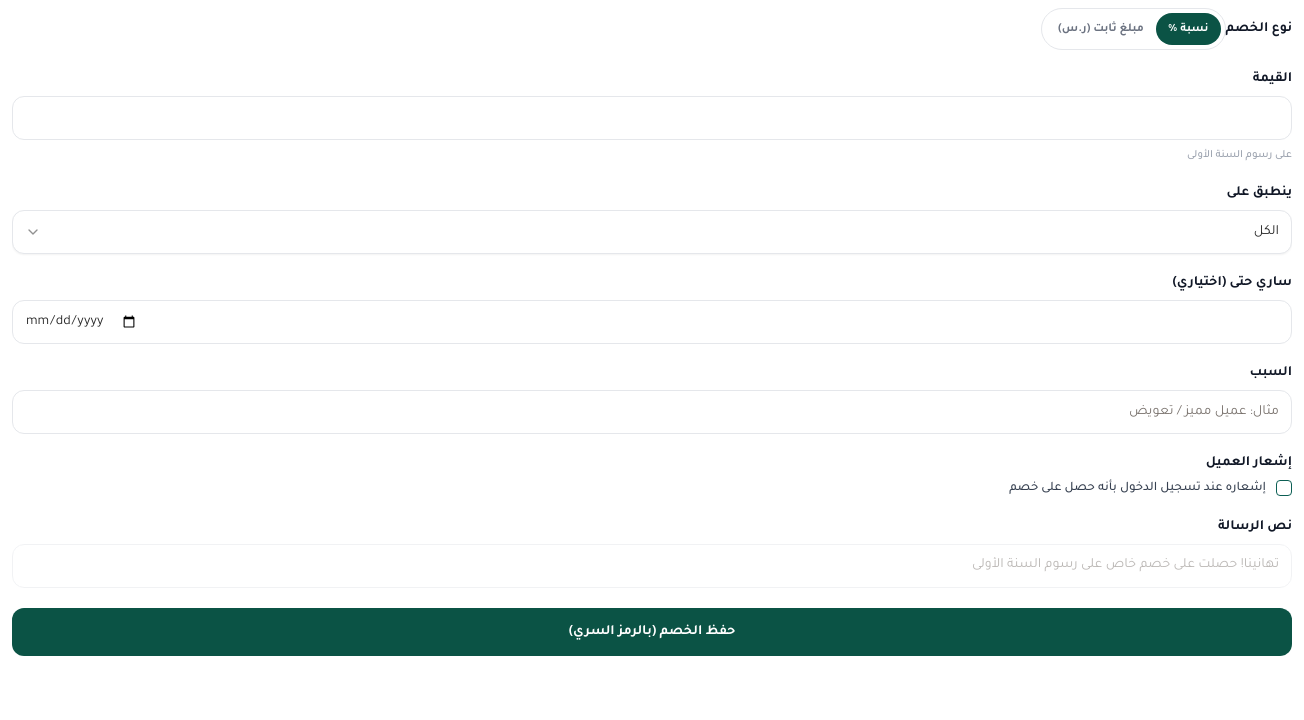
Scenario: ClientDiscountForm — notify-on-login checkbox › enables the message field once the checkbox is checked
This screenshot has width=1304, height=720.
Click the checkbox named "إشعار العميل". click: point(1284, 488)
box: [1276,480,1292,496]
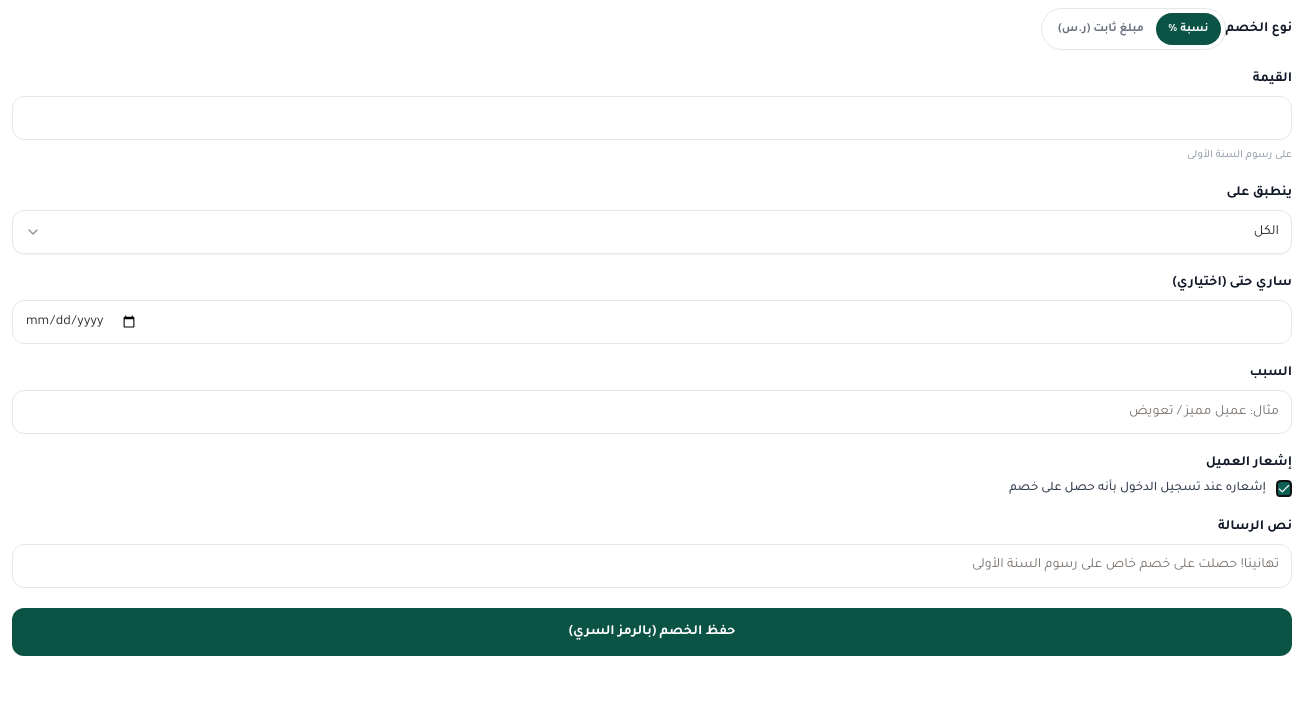
Check: the field labelled "نص الرسالة" is enabled, box [12,544,1292,588]
